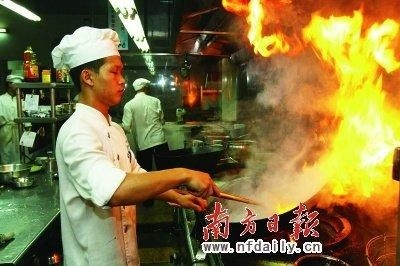fire: (294, 5, 400, 208)
